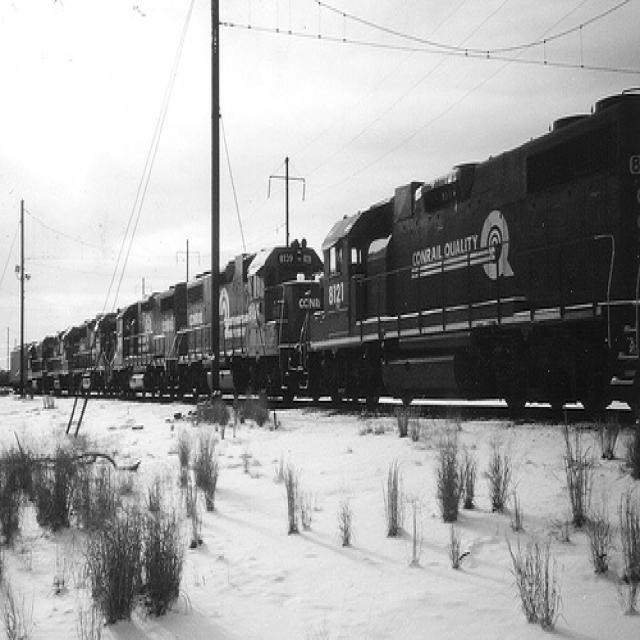train: (0, 80, 634, 413)
